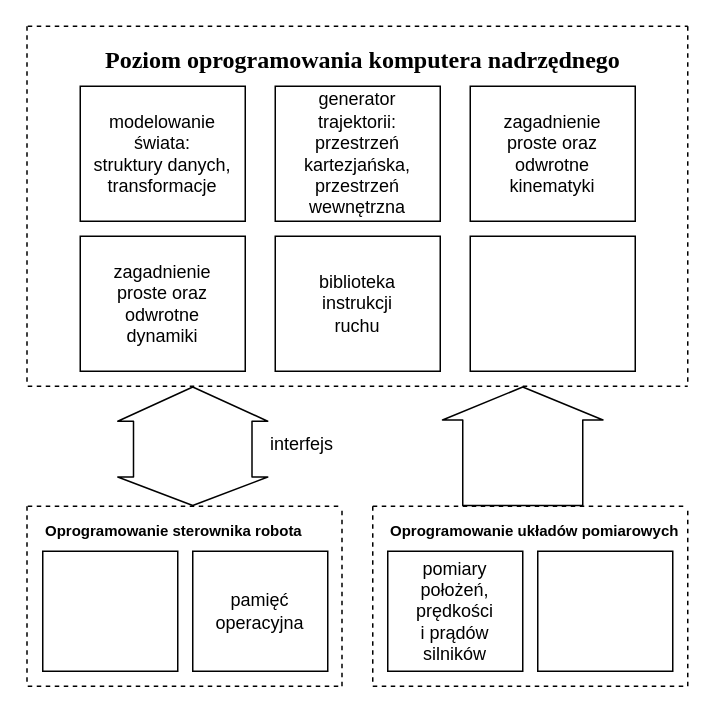
Some shapes in this 716 by 714 pixel diagram are drawn without their labels. The shapes that lost their labels are listed below. From the top down, each one's centre as x and y in pixels, then its label:
At point 552,303: "oprogramowanie sensorów".
At point 109,610: "algorytmy sterowania".
At point 604,610: "czujnik sił i momentów, czujniki zbliżeniowe".
